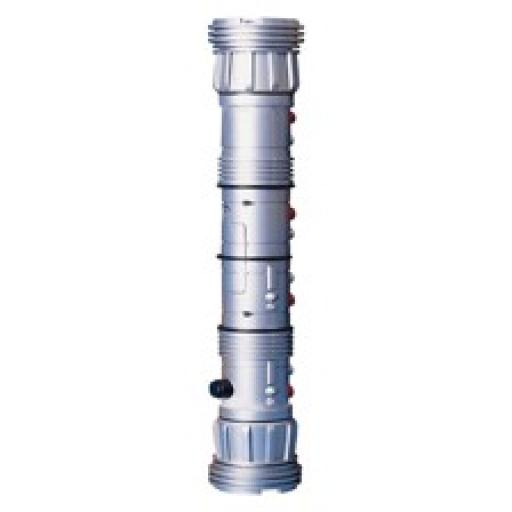lightsaber: (206, 16, 303, 494)
